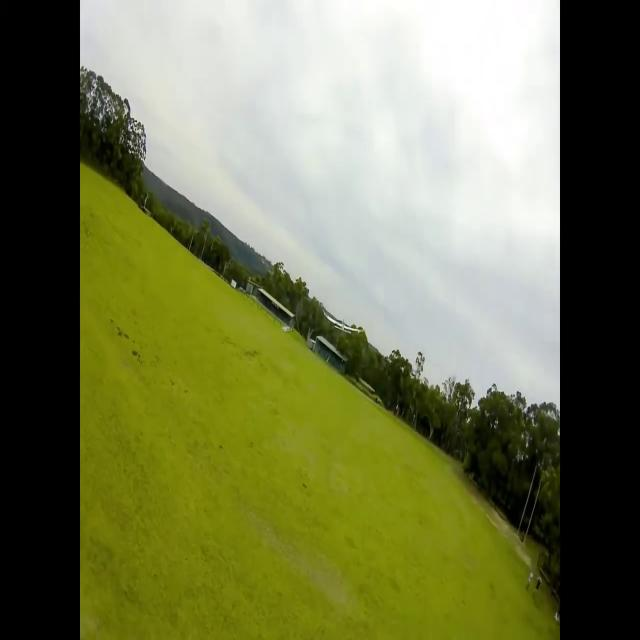iha: (324, 312, 364, 335)
